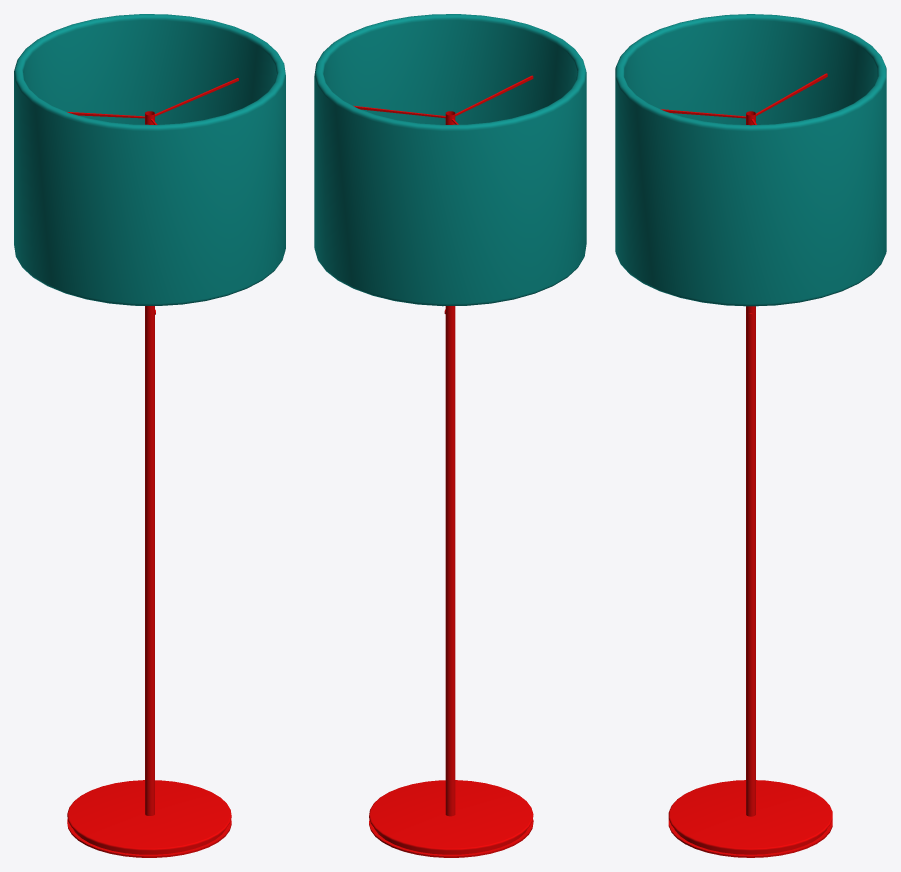
Rendered from A_JD_LivingroomLamp2_001.fbx.
The picture shows the model from 3 angles, left to right: view 1: azimuth 30°, elevation 25°; view 2: azimuth 150°, elevation 25°; view 3: azimuth 270°, elevation 25°; orthographic projection.
Visible parts, largest first — view 1: Cylinder001; view 2: Cylinder001; view 3: Cylinder001.
Part boxes in pixels (x1,y1,x2,y2): Cylinder001: (14, 14, 285, 857); Cylinder001: (314, 14, 586, 857); Cylinder001: (615, 14, 886, 857).
Size of the model in its own units: 24.19 by 73.83 by 24.08.
